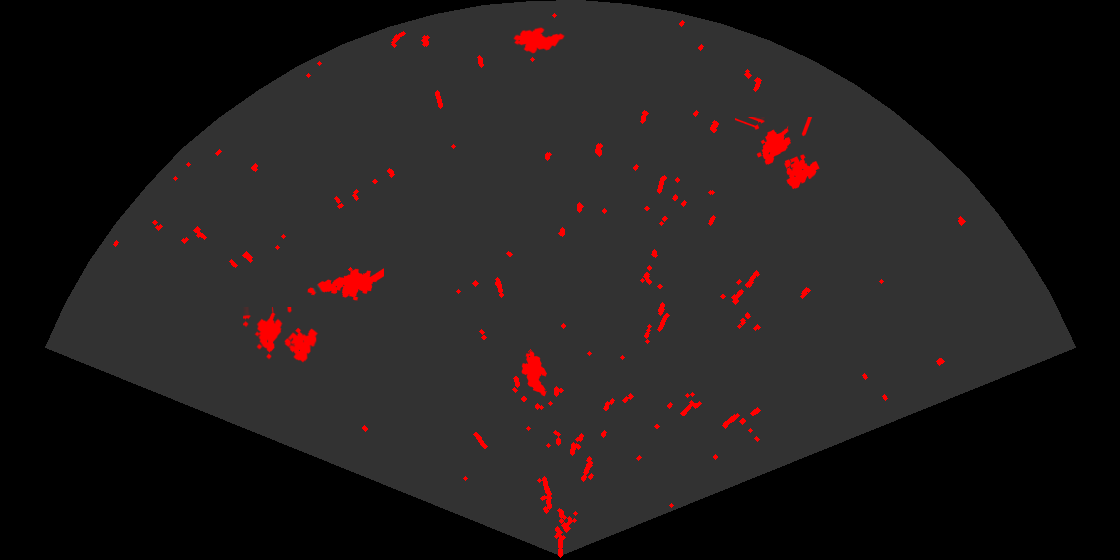AUV: (512, 26, 566, 55), (520, 349, 549, 398)
cage: (735, 117, 821, 191), (243, 307, 320, 364)
frogman: (306, 267, 384, 302)
